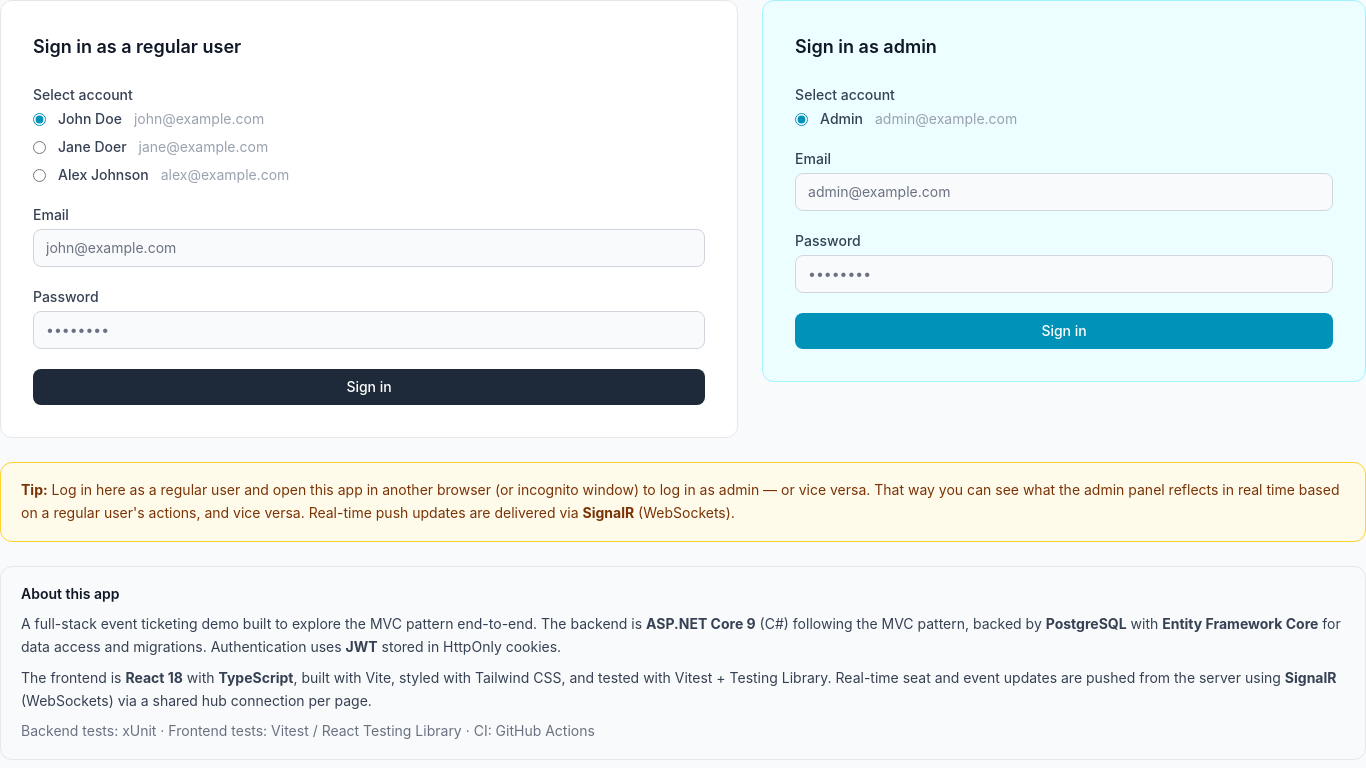
Test case: Sign in button is disabled while submitting
Click the button "Sign in" below "Alex Johnson". click: (369, 387)
box: [33,369,705,405]
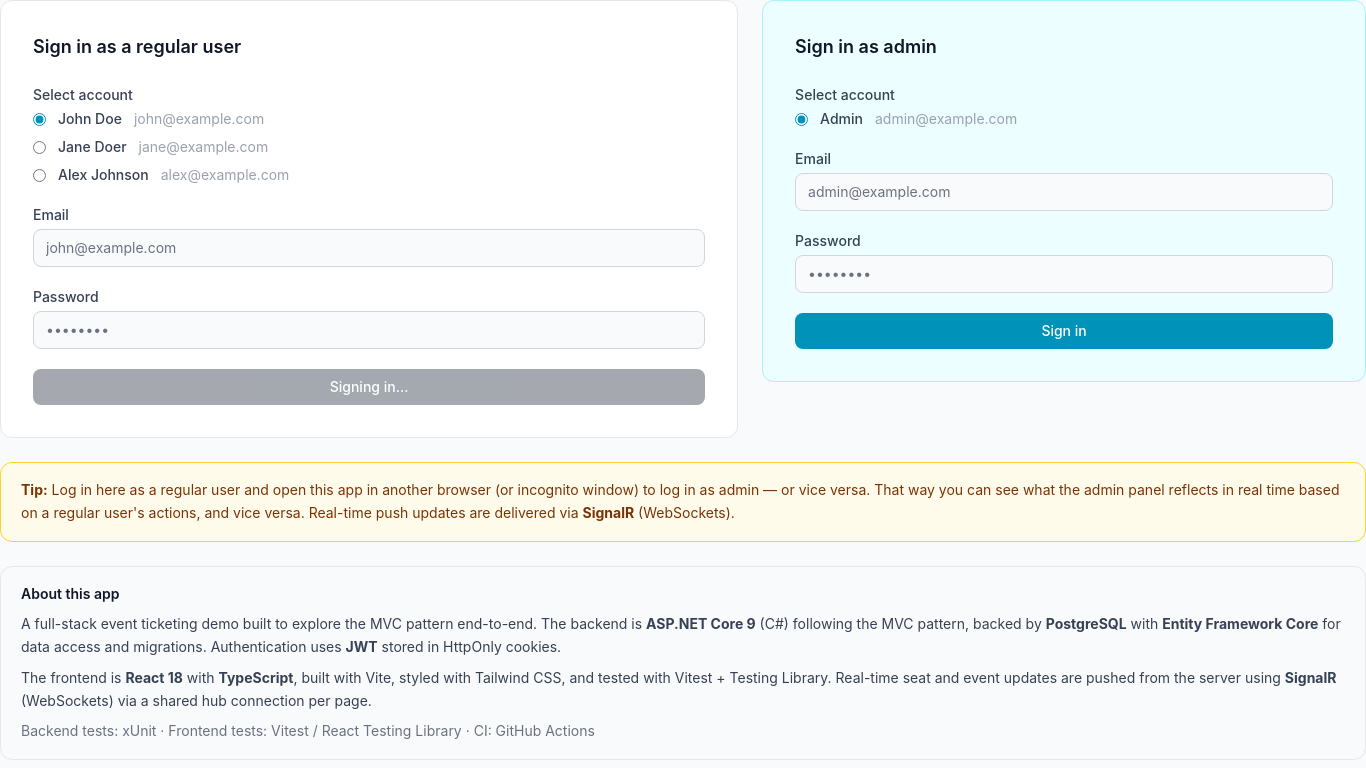
Expected: the button "Signing in…" is disabled, [33,369,705,405]
